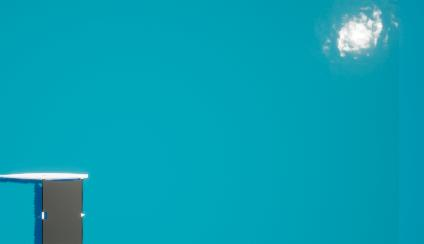boat: (0, 171, 93, 244)
drone: (43, 179, 82, 244)
land_base: (303, 1, 418, 74)
